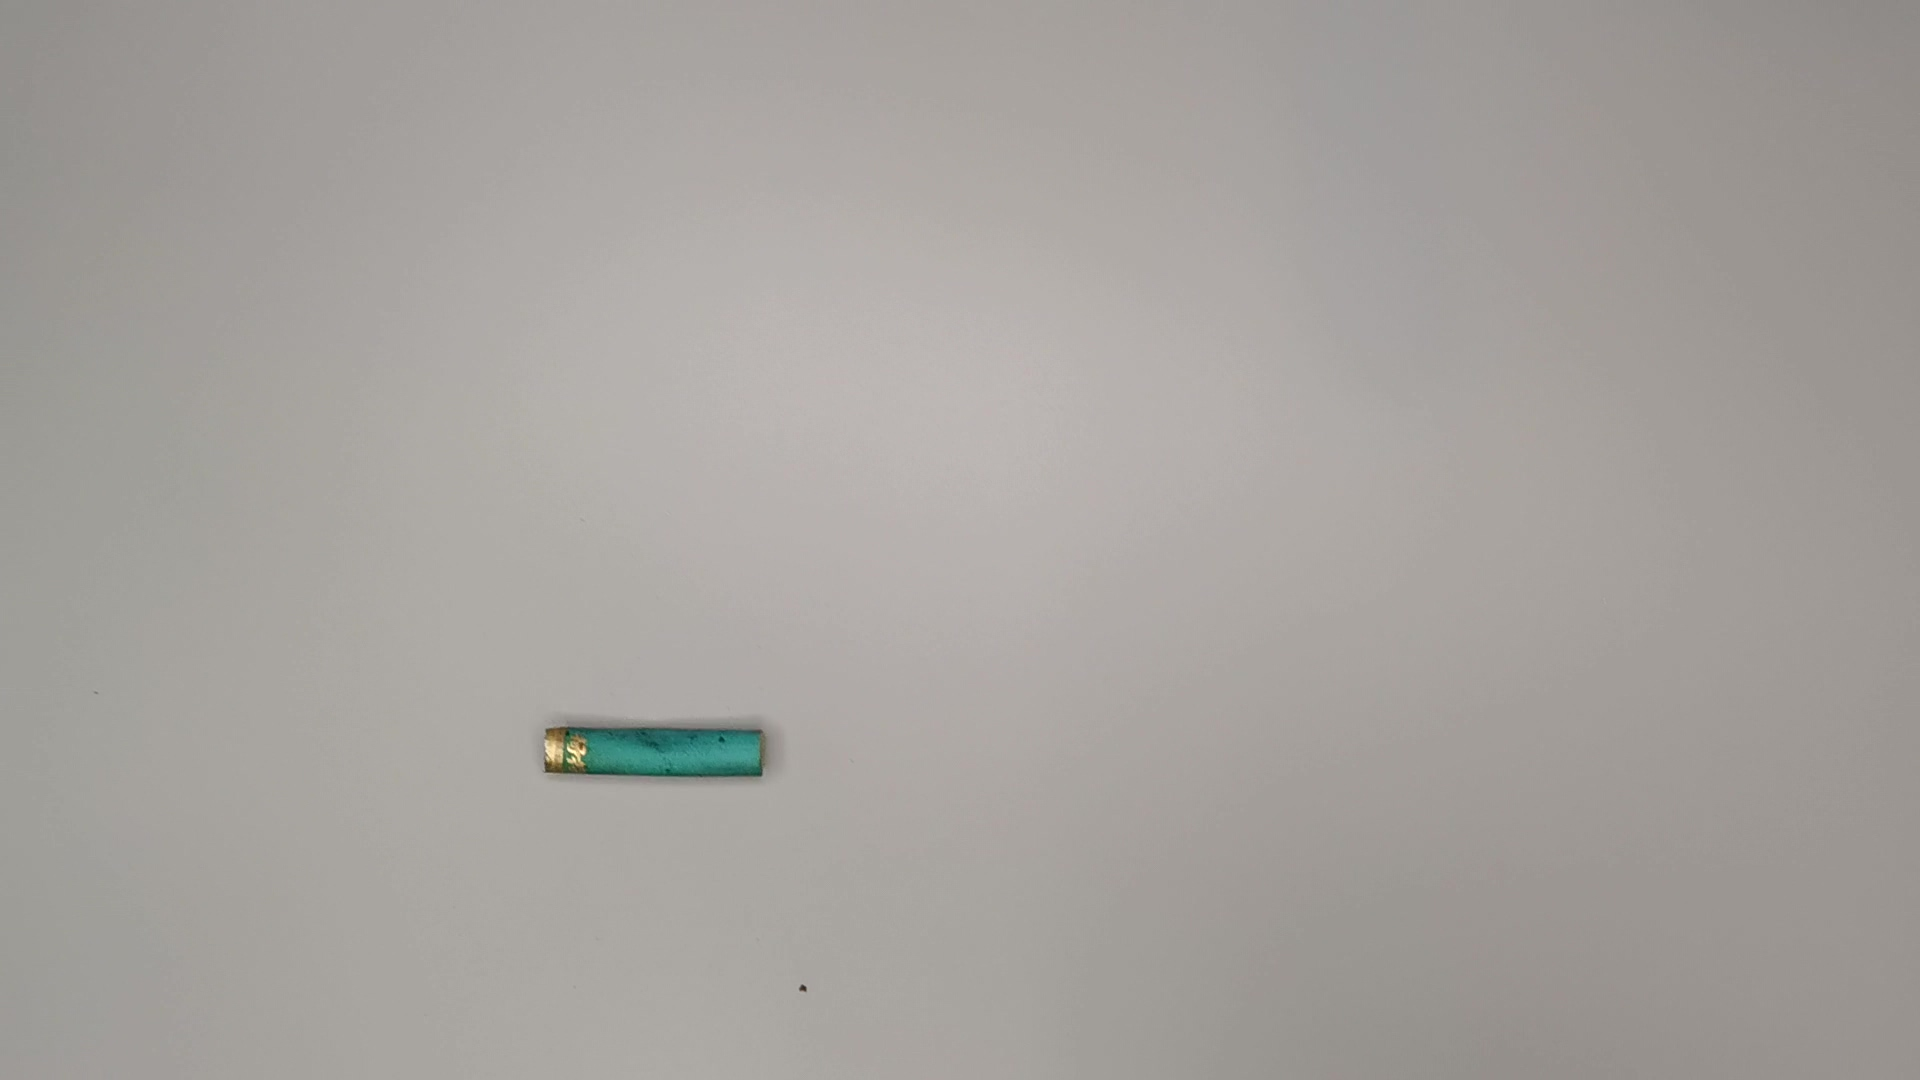cigarette: (518, 715, 778, 794)
